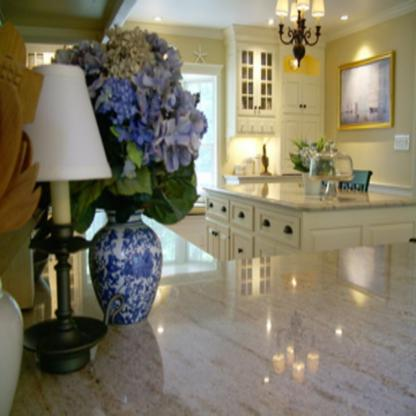vase: (87, 203, 164, 325)
